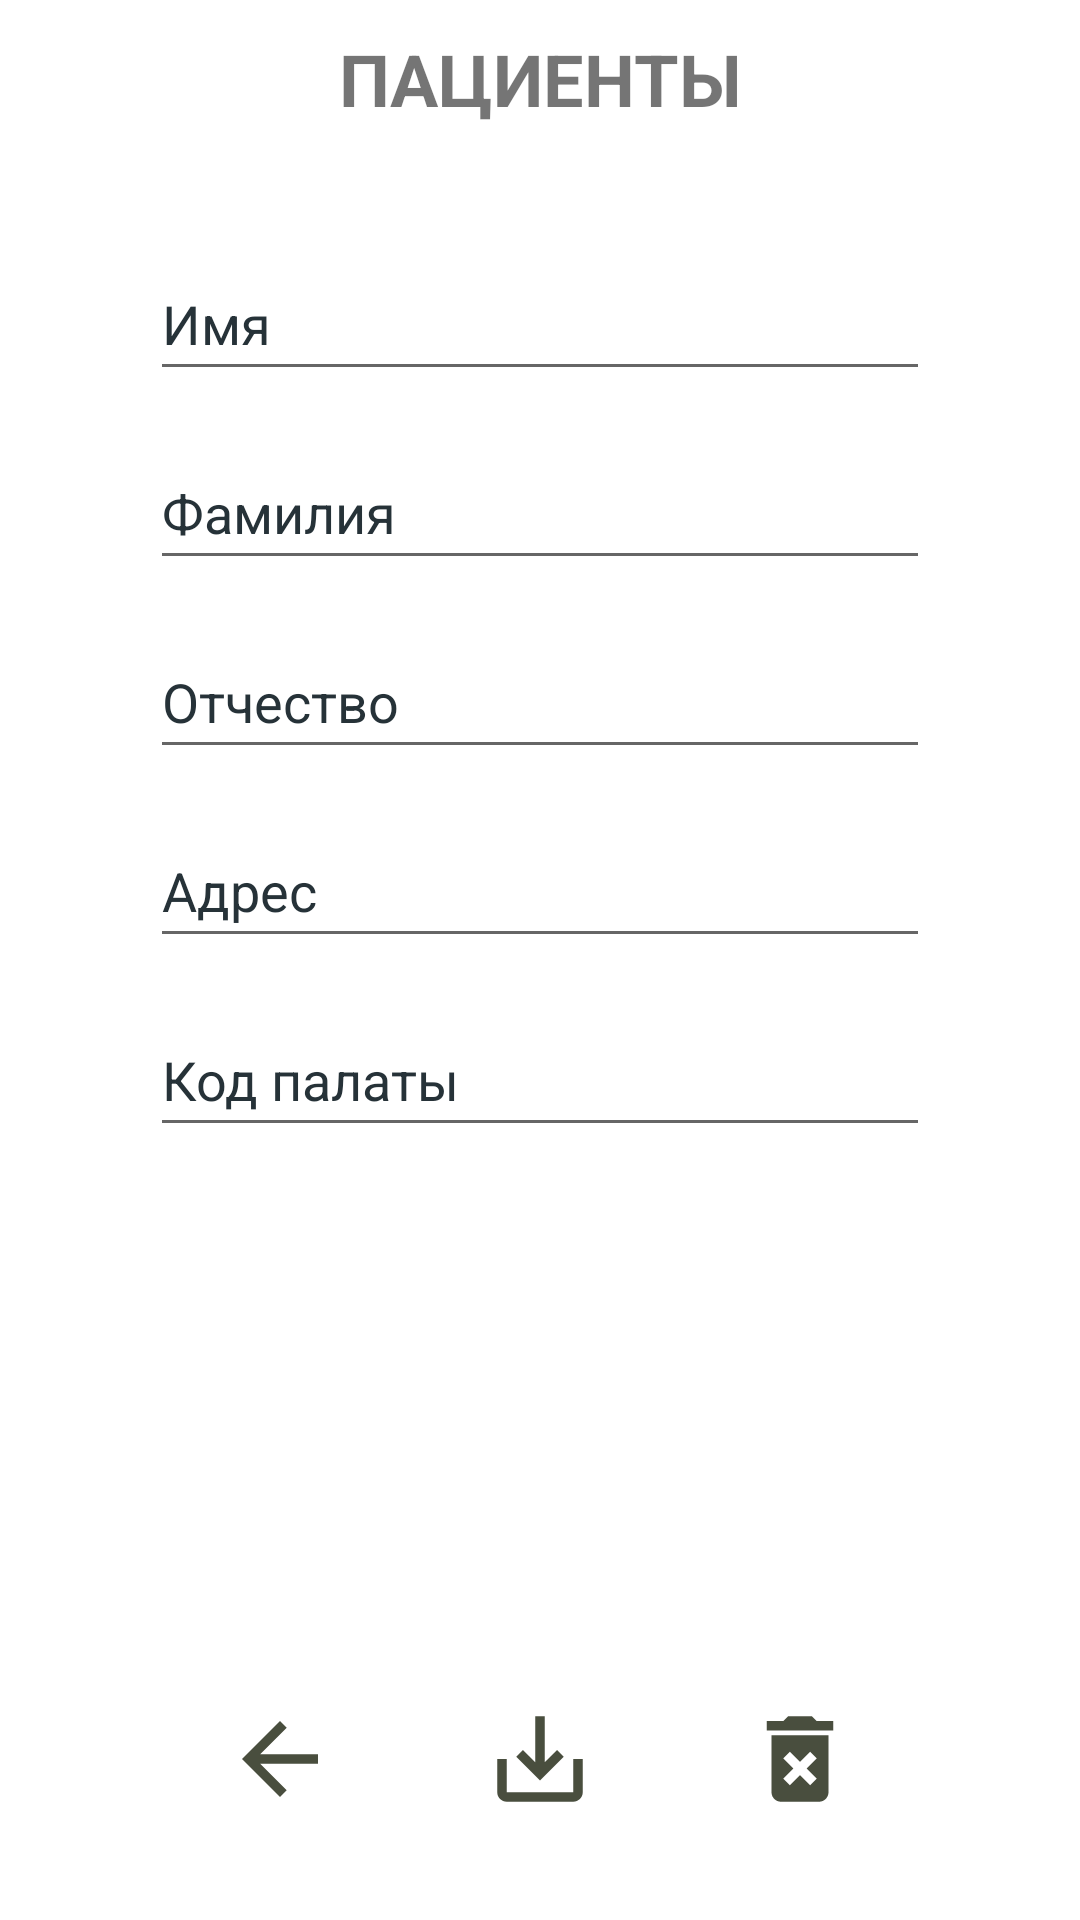

Icon click points for this 1080 x 1920 phone screenshot, format (x,y):
back: (280,1759)
delete: (800,1759)
save: (540,1759)
